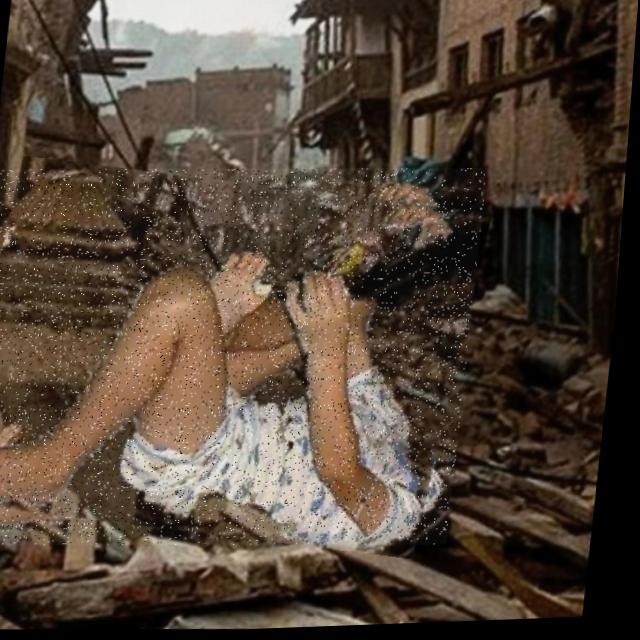Person in Rubble: (0, 154, 491, 562)
